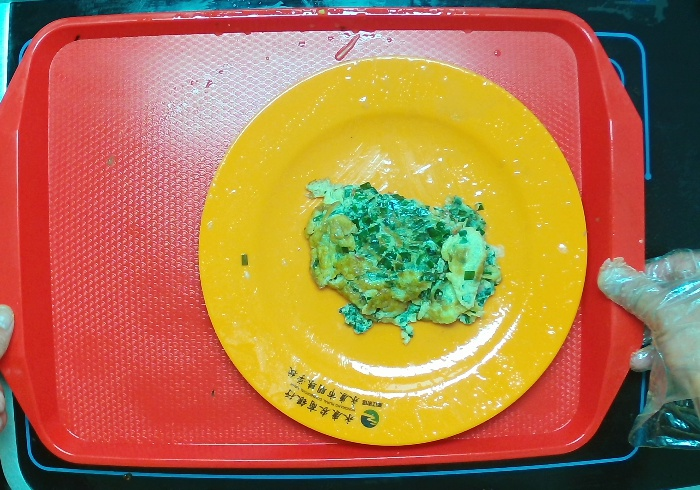YKMZ-Ju_Se_Mian_Pan: (197, 55, 589, 448)
